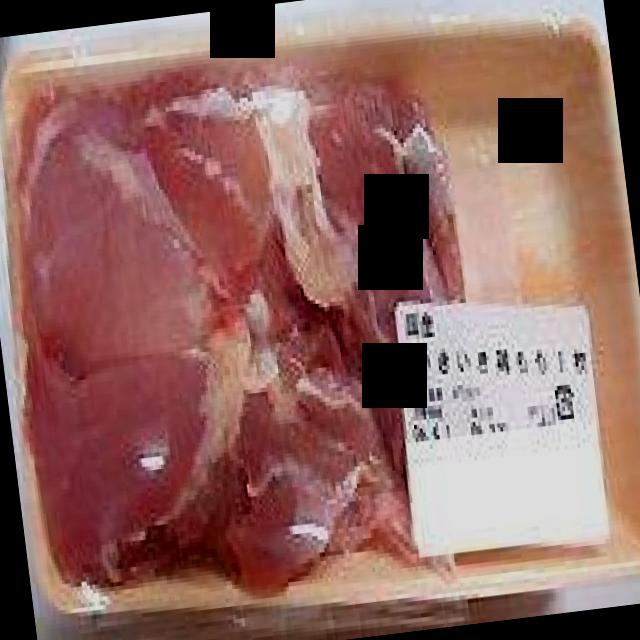chicken: (0, 16, 640, 611)
